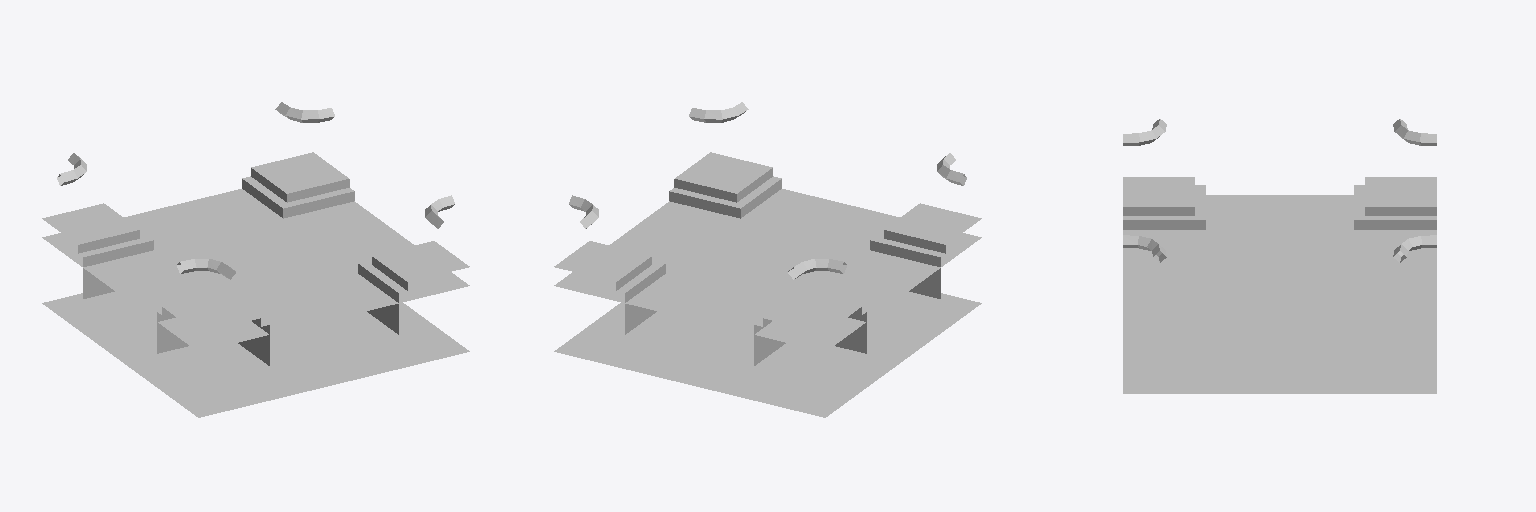
The model's file is CrossPiece.obj.
3 views of the same model, side by side, from view 1: azimuth 30°, elevation 25°; view 2: azimuth 150°, elevation 25°; view 3: azimuth 270°, elevation 25° (orthographic).
Parts seen in each view (by area): view 1: CrossPiece_geo; view 2: CrossPiece_geo; view 3: CrossPiece_geo.
Boxes of the visible parts, x1,y1,x2,y2 form: CrossPiece_geo: [42, 102, 469, 417]; CrossPiece_geo: [554, 102, 981, 417]; CrossPiece_geo: [1123, 119, 1436, 393].
Bounding box in the file's own units: 171 × 85.93 × 171.